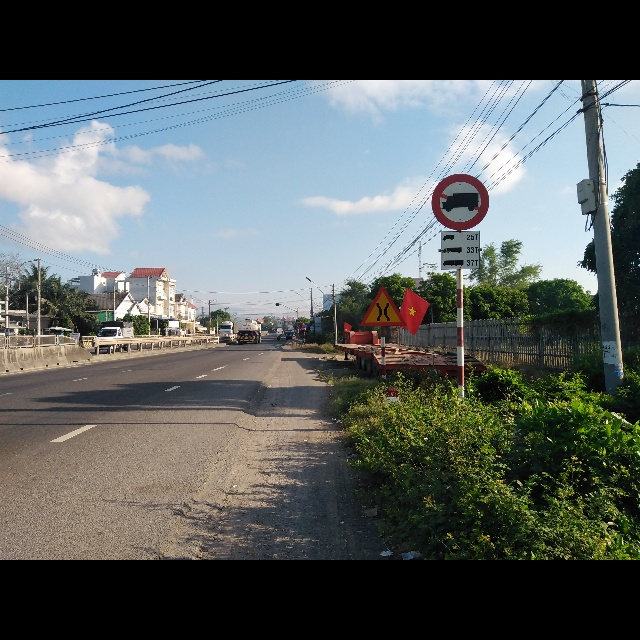Cấm xe tải: (430, 171, 491, 230)
Cầu hẹp: (358, 283, 405, 328)
